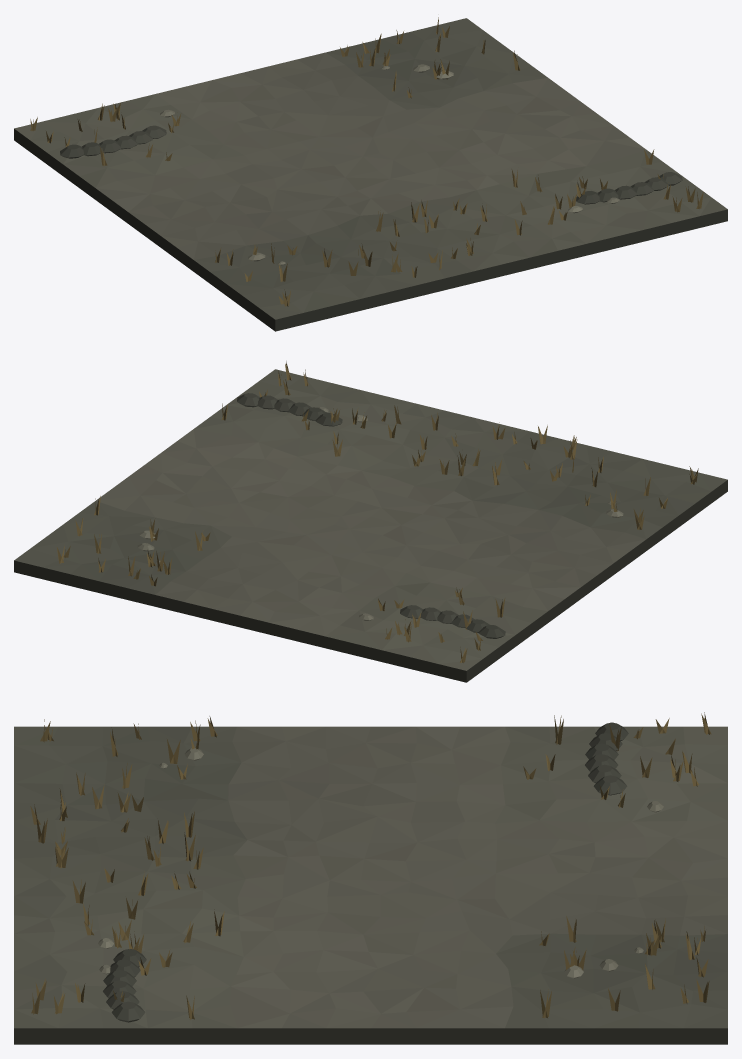
Rendered from CHUNK_ash_grassland__caravan_fork.glb.
3 views of the same model, one above another, from view 1: azimuth 30°, elevation 25°; view 2: azimuth 150°, elevation 25°; view 3: azimuth 270°, elevation 25° (orthographic). The views are drawn at different scales.
Parts seen in each view (by area): view 1: CHUNK_ash_grassland__caravan_fork; view 2: CHUNK_ash_grassland__caravan_fork; view 3: CHUNK_ash_grassland__caravan_fork.
Part boxes in pixels (x1,y1,x2,y2): CHUNK_ash_grassland__caravan_fork: (14, 17, 727, 331); CHUNK_ash_grassland__caravan_fork: (14, 361, 727, 682); CHUNK_ash_grassland__caravan_fork: (14, 712, 727, 1044).
Size of the model in its own units: 8 by 0.5616 by 8.
